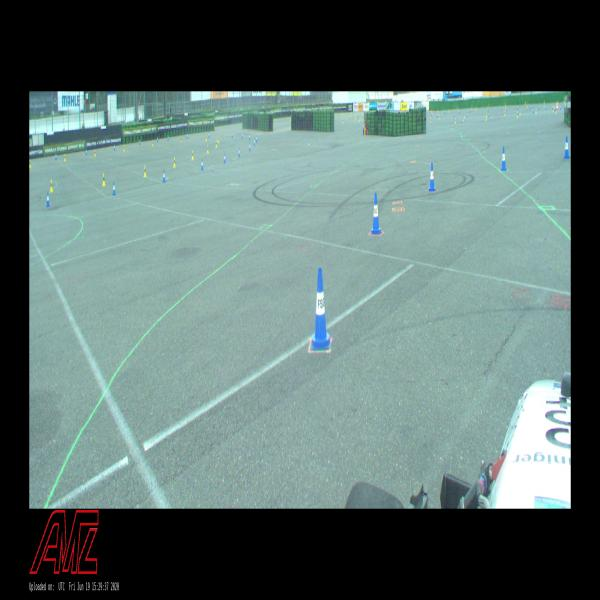blue_cone: (312, 268, 330, 350), (370, 193, 382, 234), (428, 162, 436, 192), (500, 147, 506, 171), (564, 136, 570, 158), (46, 191, 50, 207), (113, 182, 116, 196), (163, 169, 166, 183), (201, 159, 204, 170), (224, 153, 226, 163), (238, 148, 240, 157)
yellow_cone: (102, 173, 106, 186), (50, 179, 53, 192), (174, 156, 176, 167), (144, 166, 146, 176), (192, 150, 194, 160), (207, 145, 209, 153)
